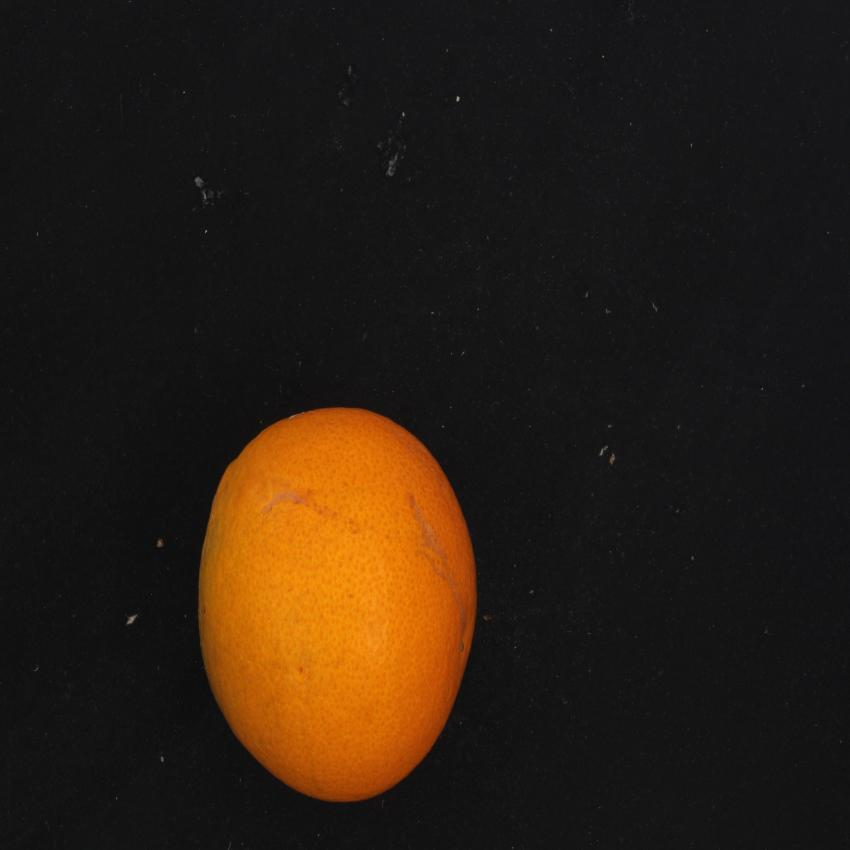Mal estado: (189, 394, 491, 816)
